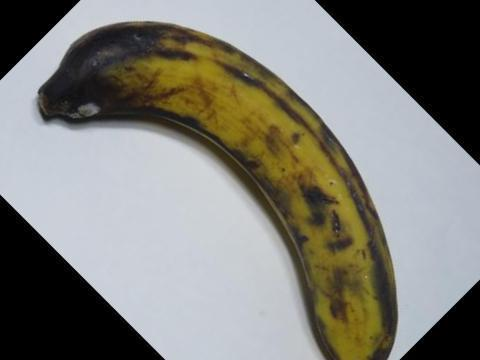overripe: (17, 0, 412, 359)
rotten: (21, 15, 184, 146)
